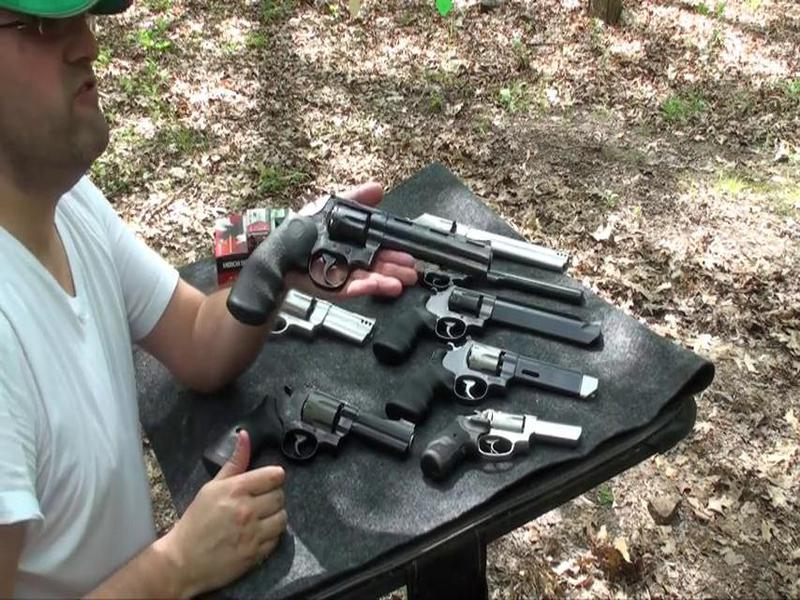Revolver: (236, 189, 496, 316), (425, 404, 585, 483)
